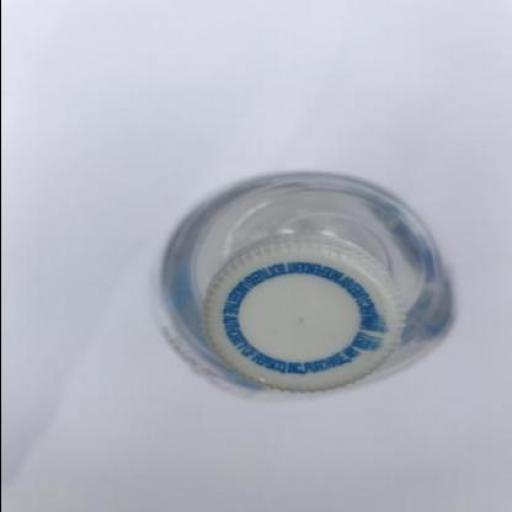plastic: (154, 172, 458, 398), (199, 233, 409, 392)
